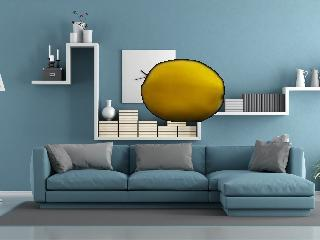lemon: (143, 60, 224, 121)
